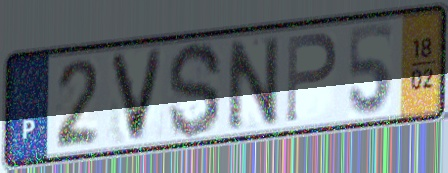2: (54, 57, 101, 152)
5: (347, 17, 396, 119)
N: (225, 32, 281, 135)
P: (283, 30, 340, 126)
S: (166, 39, 225, 142)
V: (106, 45, 168, 146)
